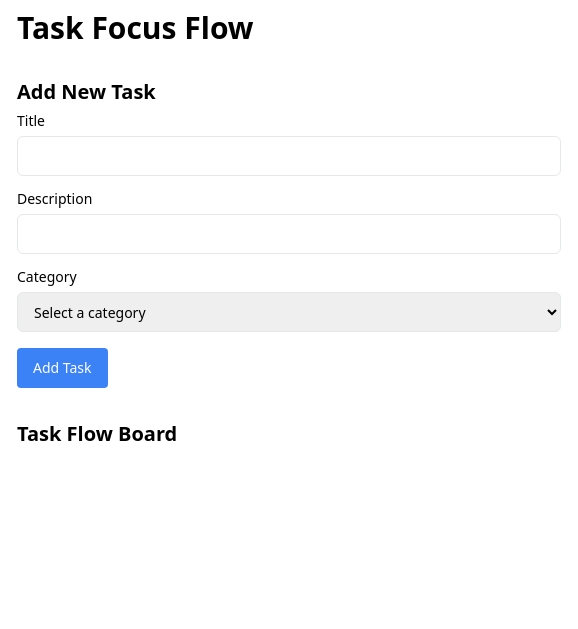
Test case: App Component Context › Ensures an item is added and displayed in the ItemCard with the correct value.
The image size is (578, 629).
Type "Test Title" into the field labelled "Title" at (289,156), box [17,136,561,176]
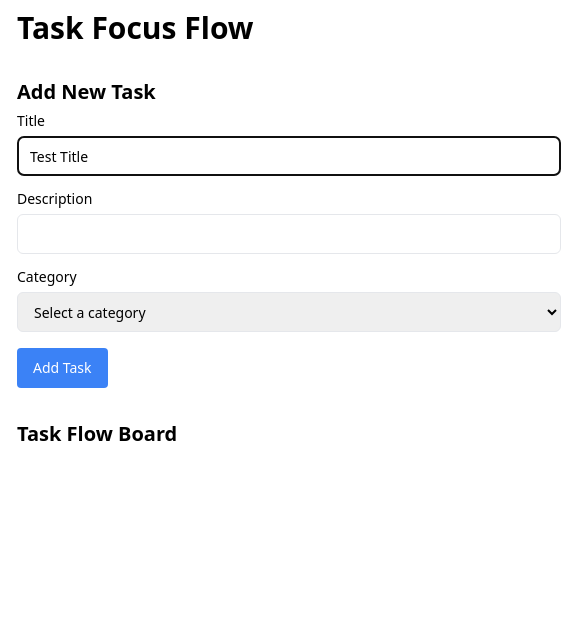
Type "Test Description" into the field labelled "Description" at (289,234), box [17,214,561,254]
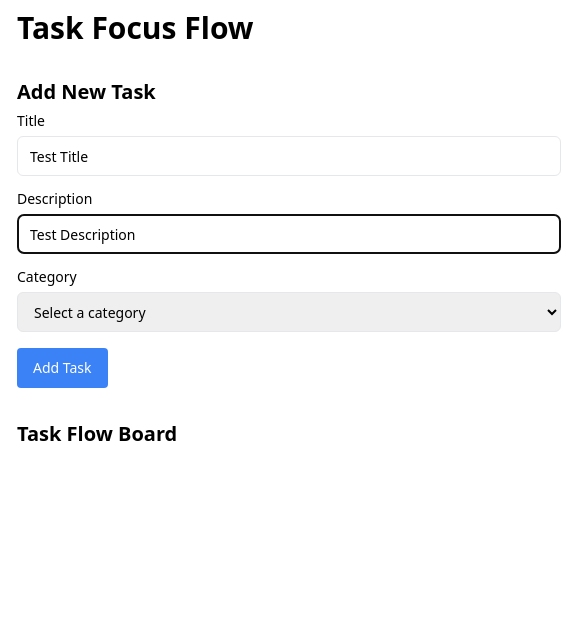
Select "Urgent" in the dropdown labelled "Category" at (289,312), box [17,292,561,332]
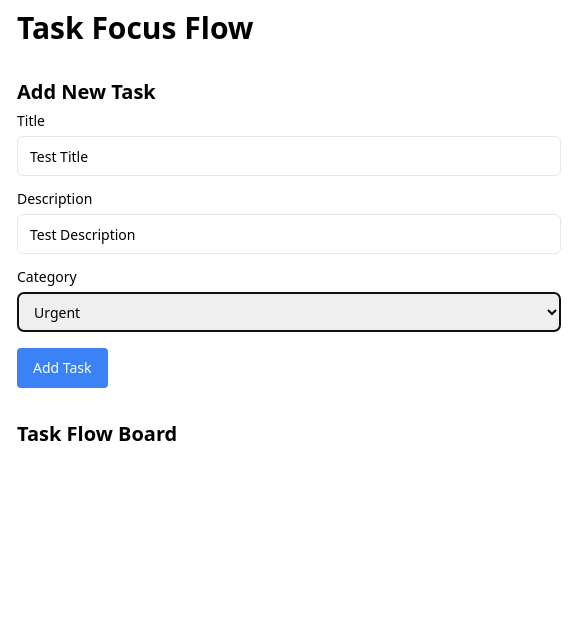
Click the button "Add task" at (62,368), box [17,348,108,388]
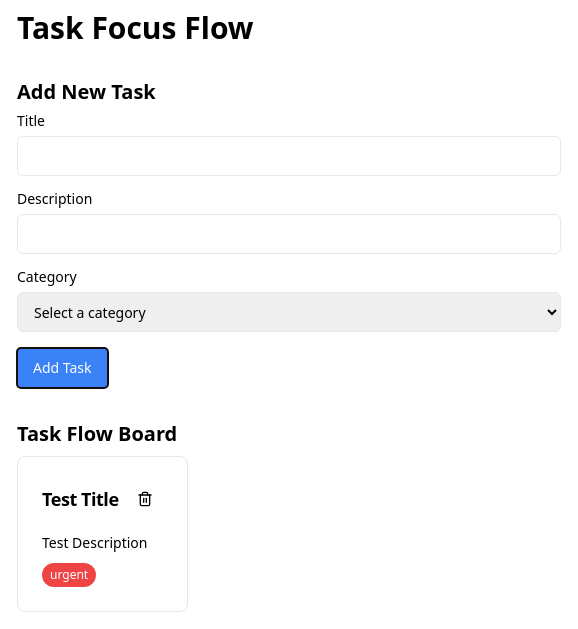
Now the heading "Test Title" is shown, box [42,490,119,508]
Now the text "Test Description" is shown, box [42,533,163,553]
